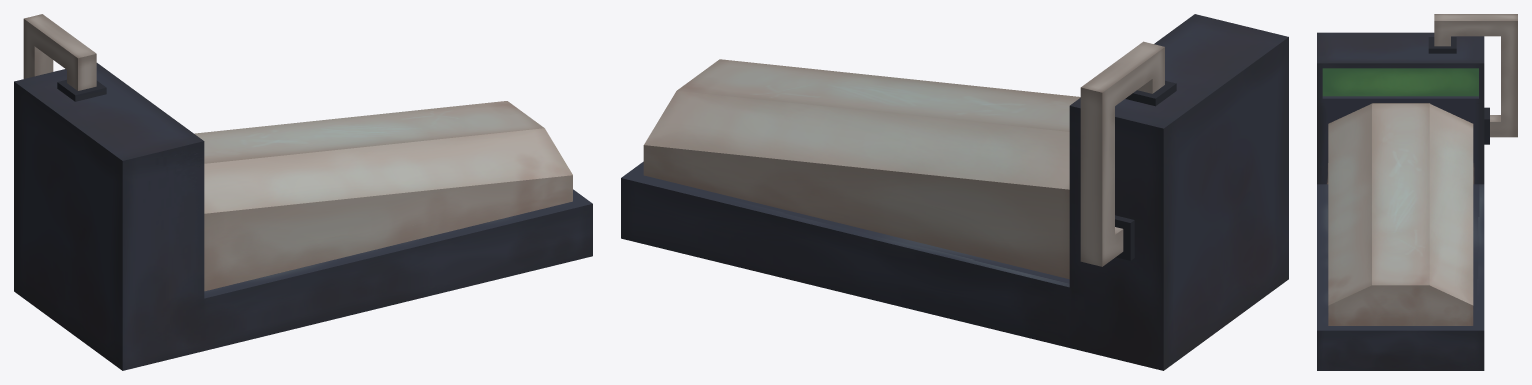
The model's file is Cryo.fbx.
The picture shows the model from 3 angles, left to right: view 1: azimuth 30°, elevation 25°; view 2: azimuth 150°, elevation 25°; view 3: azimuth 270°, elevation 25°; orthographic projection. The views are drawn at different scales.
Parts seen in each view (by area): view 1: Cube; view 2: Cube; view 3: Cube.
Part boxes in pixels (x1,y1,x2,y2): Cube: [14, 14, 592, 370]; Cube: [621, 14, 1288, 370]; Cube: [1317, 14, 1517, 370].
Size of the model in its own units: 7.5 by 3.8 by 3.6.
